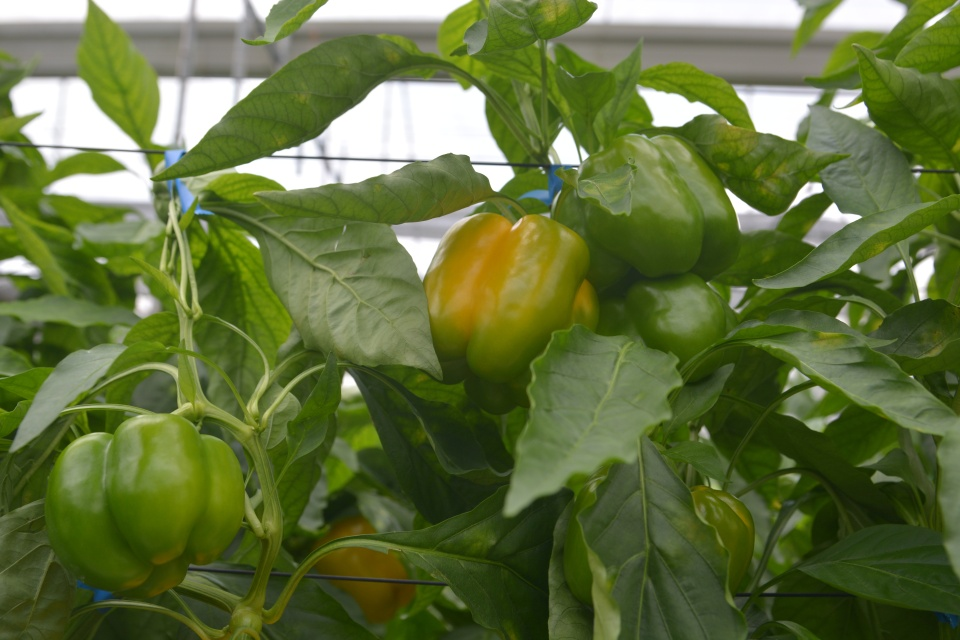fruit: (40, 410, 249, 602), (421, 209, 603, 418), (547, 130, 745, 299), (593, 269, 745, 389), (304, 511, 418, 632), (688, 482, 756, 602)
